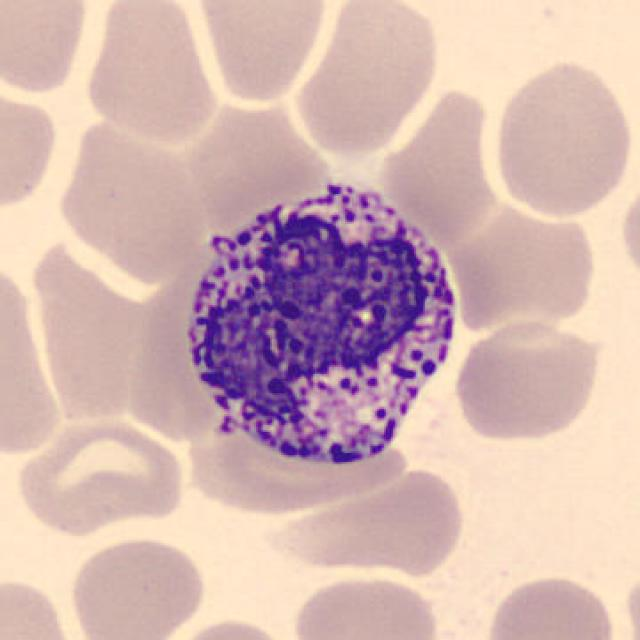Basophil: (167, 160, 477, 478)
RBC: (180, 404, 414, 518), (52, 115, 210, 272), (258, 458, 468, 576), (290, 0, 444, 159), (489, 56, 636, 220), (449, 197, 607, 348), (34, 241, 168, 419), (11, 413, 190, 541), (380, 80, 505, 247), (80, 0, 222, 146), (450, 316, 604, 444), (64, 532, 210, 640), (190, 0, 331, 106), (0, 271, 73, 466), (288, 569, 444, 640), (478, 569, 622, 640), (0, 0, 92, 97), (0, 83, 62, 217), (0, 571, 82, 640), (159, 613, 300, 640), (617, 176, 640, 291), (622, 559, 640, 640)
